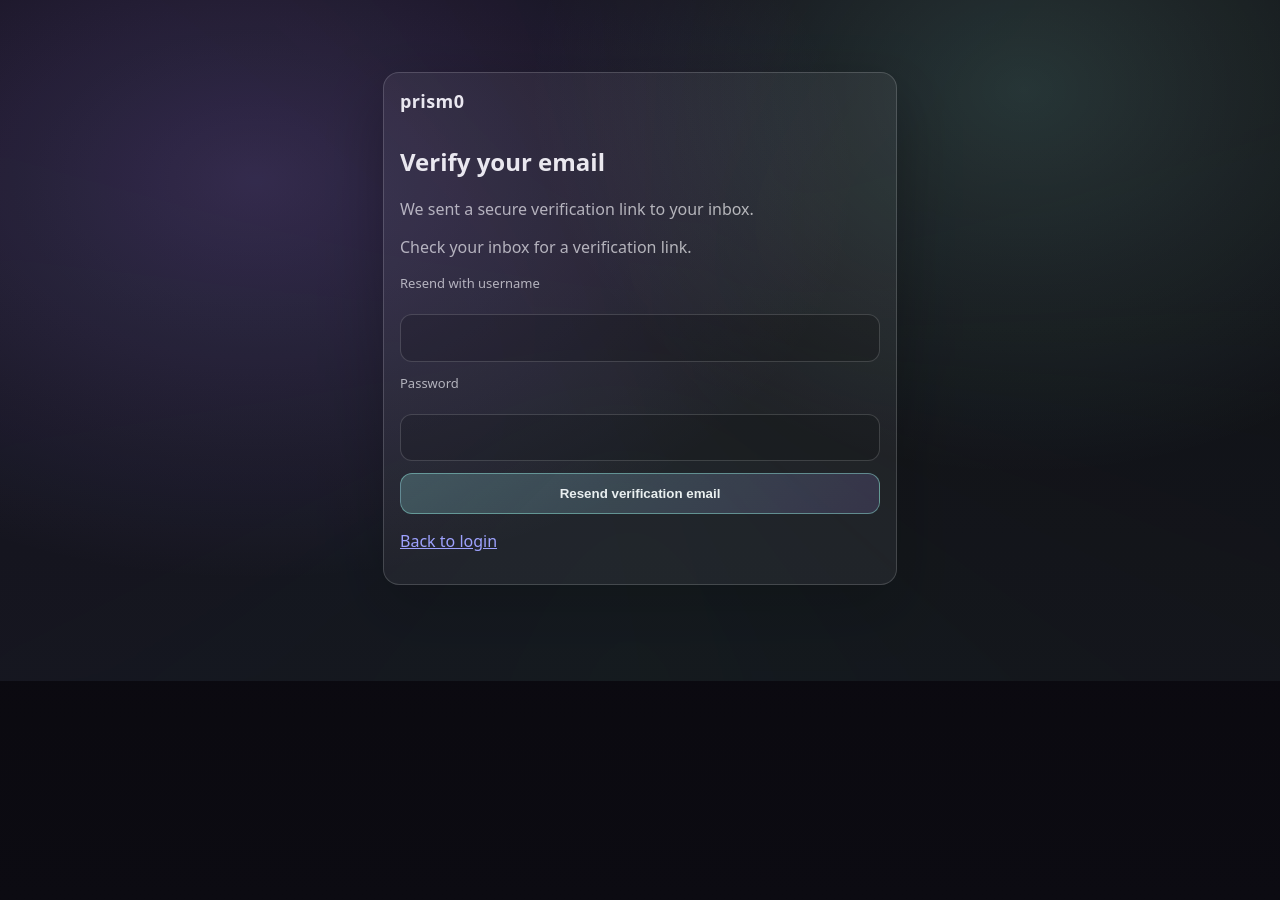
Test: VerifyEmailPage › shows a generic resend confirmation without a dev token
The width and height of the screenshot is (1280, 900).
Type "user" into the field labelled "Resend with username" at (640, 338), box [400, 314, 880, 362]
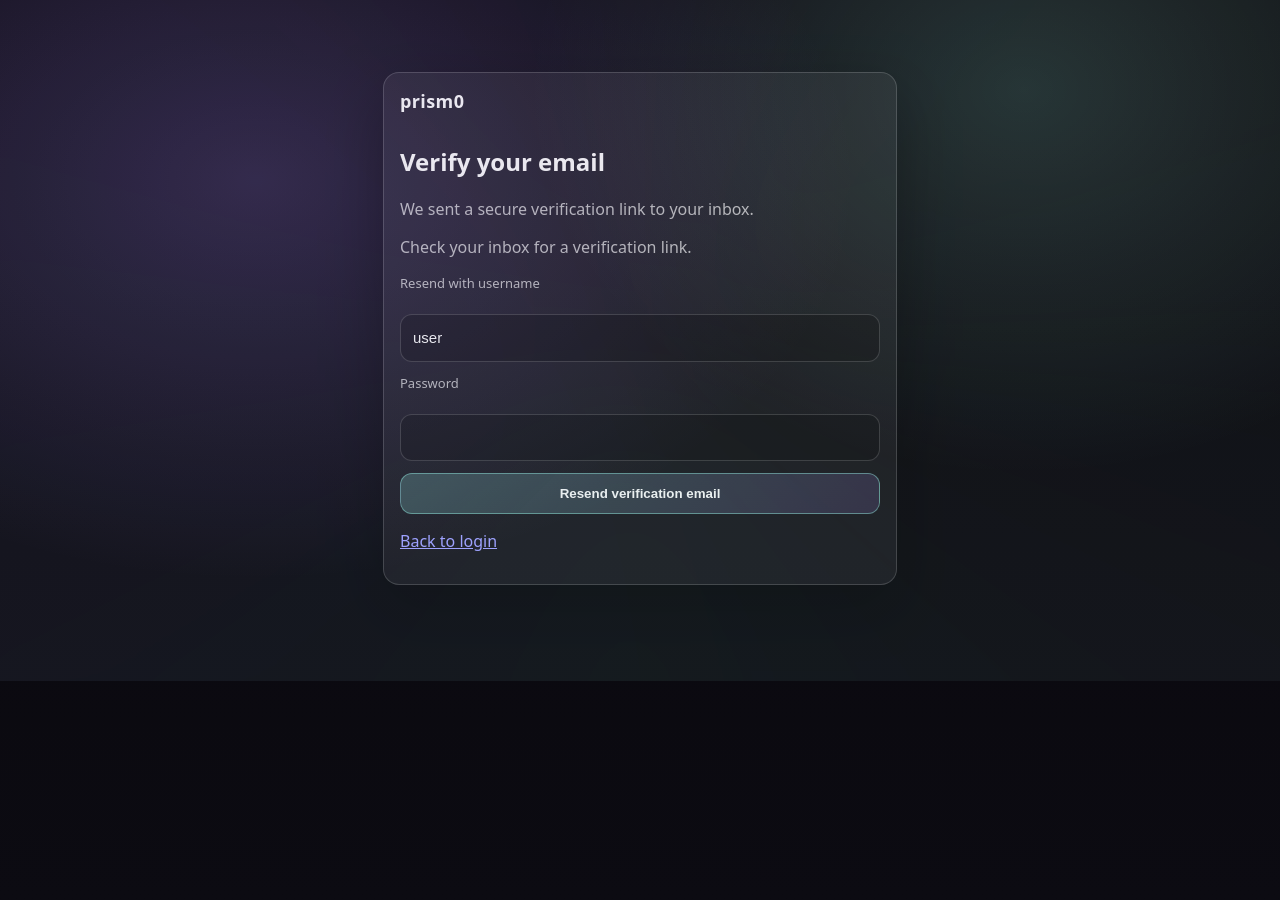
Type "secret123" into the password field labelled "Password" at (640, 438), box [400, 414, 880, 461]
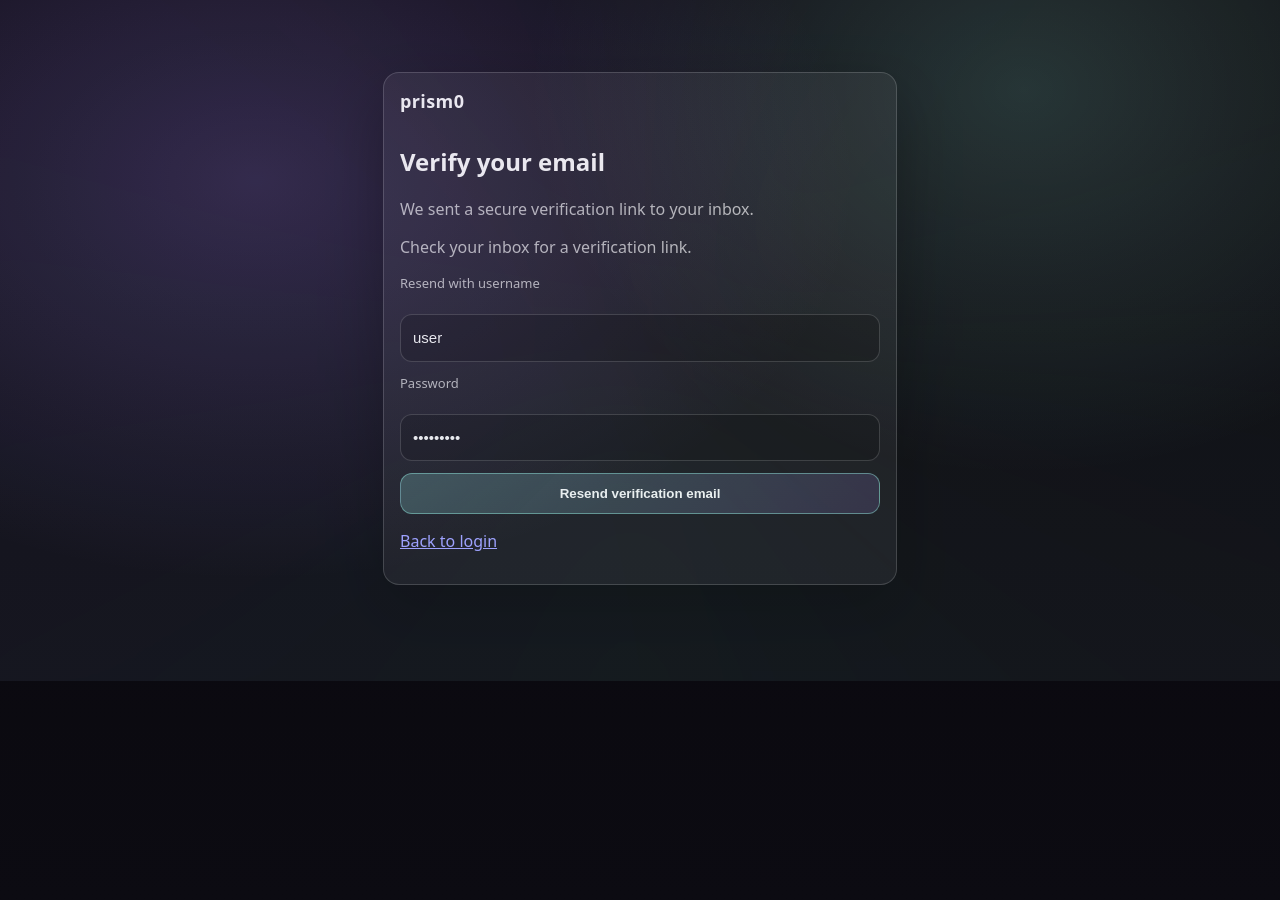
Click the button "Resend verification email" at (640, 494), box [400, 473, 880, 514]
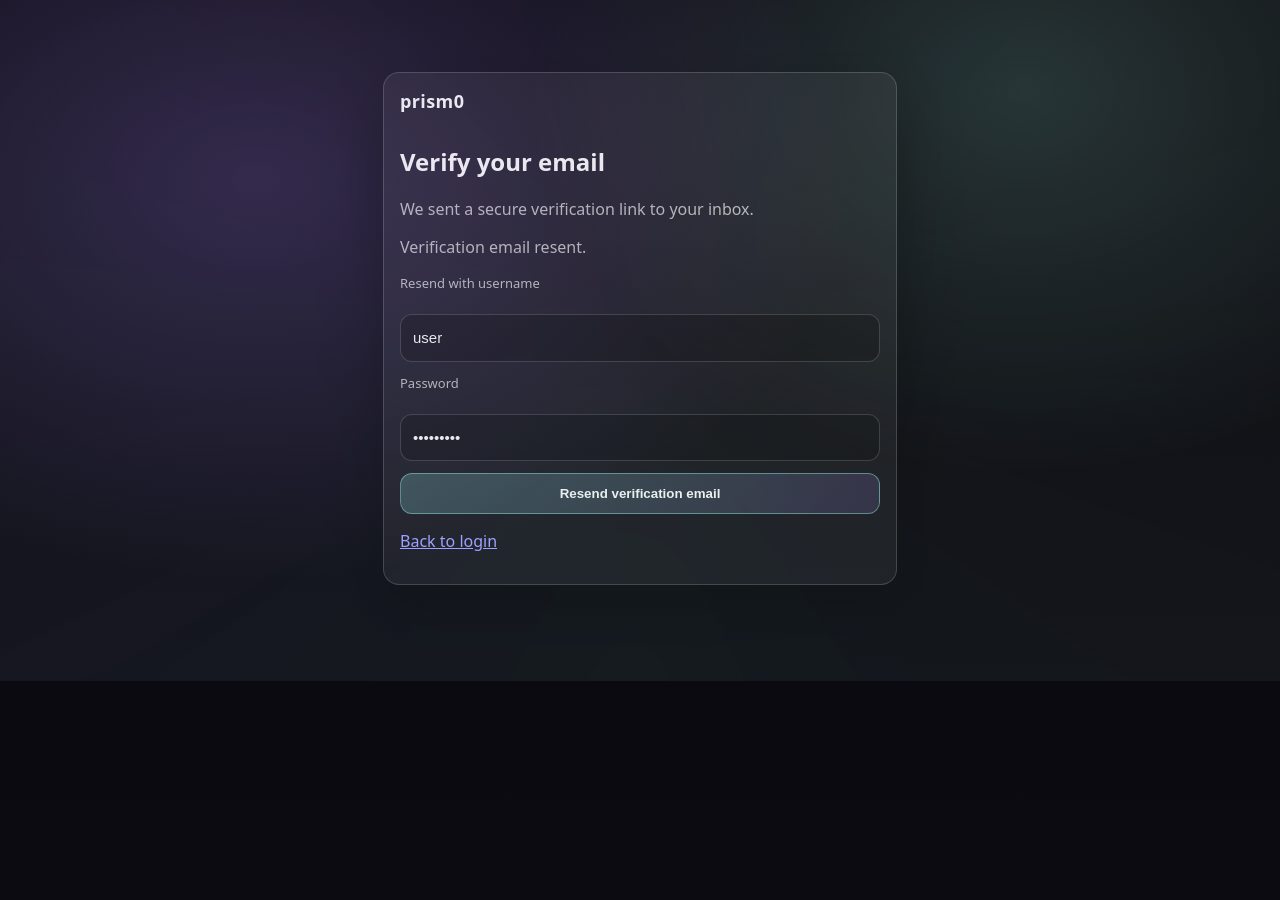
Now the text "Verification email resent." is shown, box [400, 236, 586, 258]
